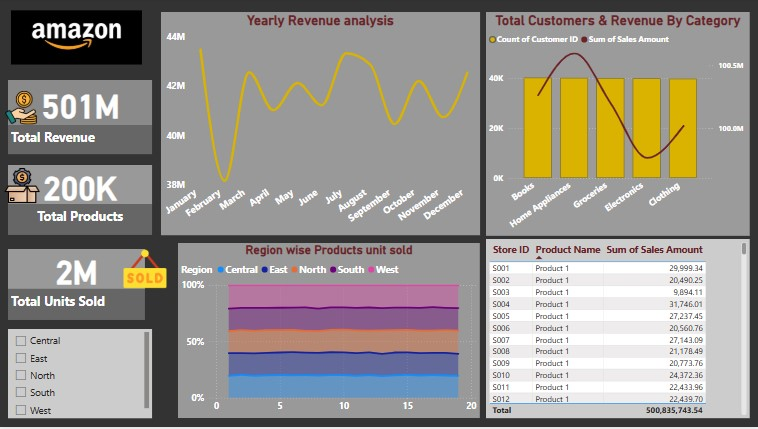

The dashboard page shown, as its layout file describes it:
{"tool":"powerbi","page":{"name":"Revenue","canvas":[1280,720],"ordinal":3},"visuals":[{"type":"image","box":[18.5,11.8,230.1,109.2],"z":0},{"type":"card","fields":{"Values":["Sum(retail_sales_transactions_data.Sales Amount)"]},"box":[18.5,137.7,241.9,75.6],"z":1000},{"type":"card","fields":{"Values":["CountNonNull(retail_sales_transactions_data.Product ID)"]},"box":[18.5,280.5,241.9,65.5],"z":2000},{"type":"textbox","box":[18.5,346,241.9,52.1],"z":3000},{"type":"hundredPercentStackedAreaChart","title":"Region wise Products unit sold","fields":{"Category":["retail_sales_transactions_data.Units Sold"],"Y":["CountNonNull(retail_sales_transactions_data.Product Category)"],"Series":["retail_sales_transactions_data.Region"]},"box":[304,411.5,507.3,294],"z":4000},{"type":"image","box":[3.4,151.2,73.9,65.5],"z":5000},{"type":"textbox","box":[18.5,213.3,241.9,48.7],"z":6000},{"type":"image","box":[6.7,280.5,70.6,68.9],"z":7000},{"type":"card","fields":{"Values":["Sum(retail_sales_transactions_data.Units Sold)"]},"box":[18.5,421.6,230.1,67.2],"z":8000},{"type":"textbox","box":[18.5,488.8,230.1,52.1],"z":9000},{"type":"image","box":[183.1,411.5,131,87.3],"z":10000},{"type":"lineChart","title":"Yearly Revenue analysis","fields":{"Category":["retail_sales_transactions_data.Date.Variation.Date Hierarchy.Year","retail_sales_transactions_data.Date.Variation.Date Hierarchy.Quarter","retail_sales_transactions_data.Date.Variation.Date Hierarchy.Month","retail_sales_transactions_data.Date.Variation.Date Hierarchy.Day"],"Y":["Sum(retail_sales_transactions_data.Sales Amount)"]},"box":[275.5,23.5,535.9,374.6],"z":11000},{"type":"lineStackedColumnComboChart","title":"Total Customers & Revenue By                                                               Category","fields":{"Category":["retail_sales_transactions_data.Product Category"],"Y2":["Sum(retail_sales_transactions_data.Sales Amount)"],"Y":["CountNonNull(retail_sales_transactions_data.Customer ID)"]},"box":[821.4,23.5,443.5,376.3],"z":12000},{"type":"tableEx","fields":{"Values":["retail_sales_transactions_data.Store ID","retail_sales_transactions_data.Product Name","Sum(retail_sales_transactions_data.Sales Amount)"]},"box":[821.4,404.8,443.5,300.7],"z":13000},{"type":"slicer","fields":{"Values":["retail_sales_transactions_data.Region"]},"box":[18.5,556,241.9,149.5],"z":14000}]}

Visuals, with their boxes in screenshot pixels (x1, y1, x2, y2), scaled from the page's 1280x720 canvas onto the 758x429 screenshot:
image: <region>11, 7, 147, 72</region>
card - Sum(retail_sales_transactions_data.Sales Amount): <region>11, 82, 154, 127</region>
card - CountNonNull(retail_sales_transactions_data.Product ID): <region>11, 167, 154, 206</region>
textbox: <region>11, 206, 154, 237</region>
"Region wise Products unit sold" hundredPercentStackedAreaChart: <region>180, 245, 480, 420</region>
image: <region>2, 90, 46, 129</region>
textbox: <region>11, 127, 154, 156</region>
image: <region>4, 167, 46, 208</region>
card - Sum(retail_sales_transactions_data.Units Sold): <region>11, 251, 147, 291</region>
textbox: <region>11, 291, 147, 322</region>
image: <region>108, 245, 186, 297</region>
"Yearly Revenue analysis" lineChart: <region>163, 14, 481, 237</region>
"Total Customers & Revenue By                                                               Category" lineStackedColumnComboChart: <region>486, 14, 749, 238</region>
tableEx - retail_sales_transactions_data.Store ID x retail_sales_transactions_data.Product Name: <region>486, 241, 749, 420</region>
slicer - retail_sales_transactions_data.Region: <region>11, 331, 154, 420</region>
